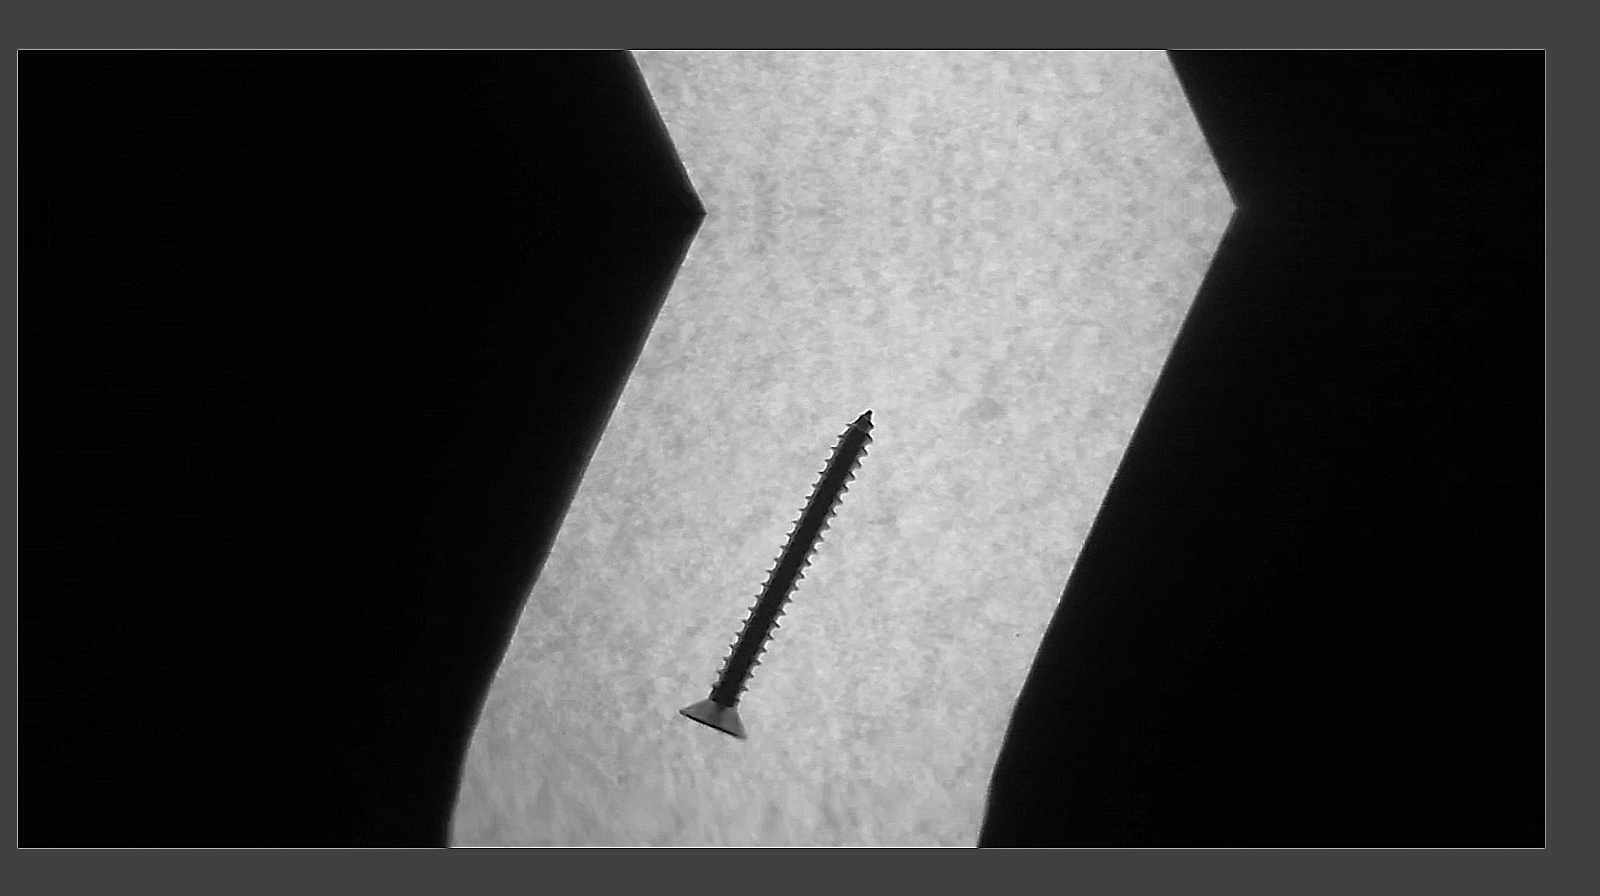S002: (669, 400, 889, 750)
